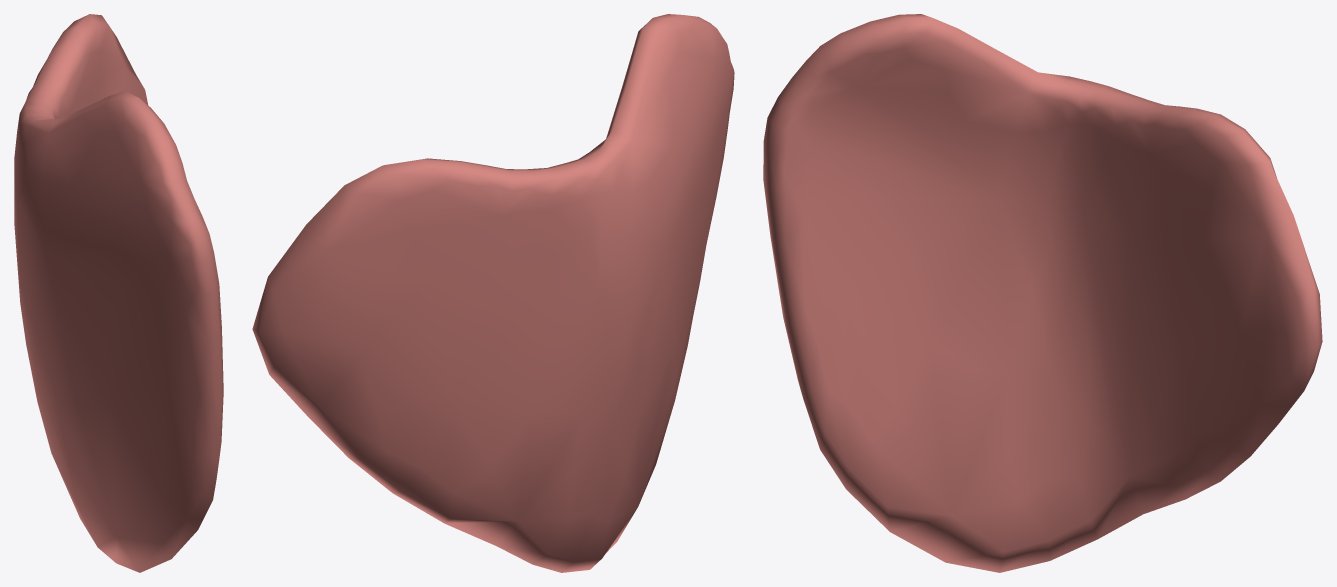
The picture shows the model from 3 angles, left to right: view 1: azimuth 30°, elevation 25°; view 2: azimuth 150°, elevation 25°; view 3: azimuth 270°, elevation 25°; orthographic projection. The views are drawn at different scales.
Parts seen in each view (by area): view 1: ZA_61087d3416441233; view 2: ZA_61087d3416441233; view 3: ZA_61087d3416441233.
Part boxes in pixels (box(x1,y1,x2,y2)): ZA_61087d3416441233: box(14, 14, 223, 572); ZA_61087d3416441233: box(252, 14, 734, 572); ZA_61087d3416441233: box(763, 14, 1322, 572).
Bounding box in the file's own units: 0.00381 × 0.00737 × 0.00686.
